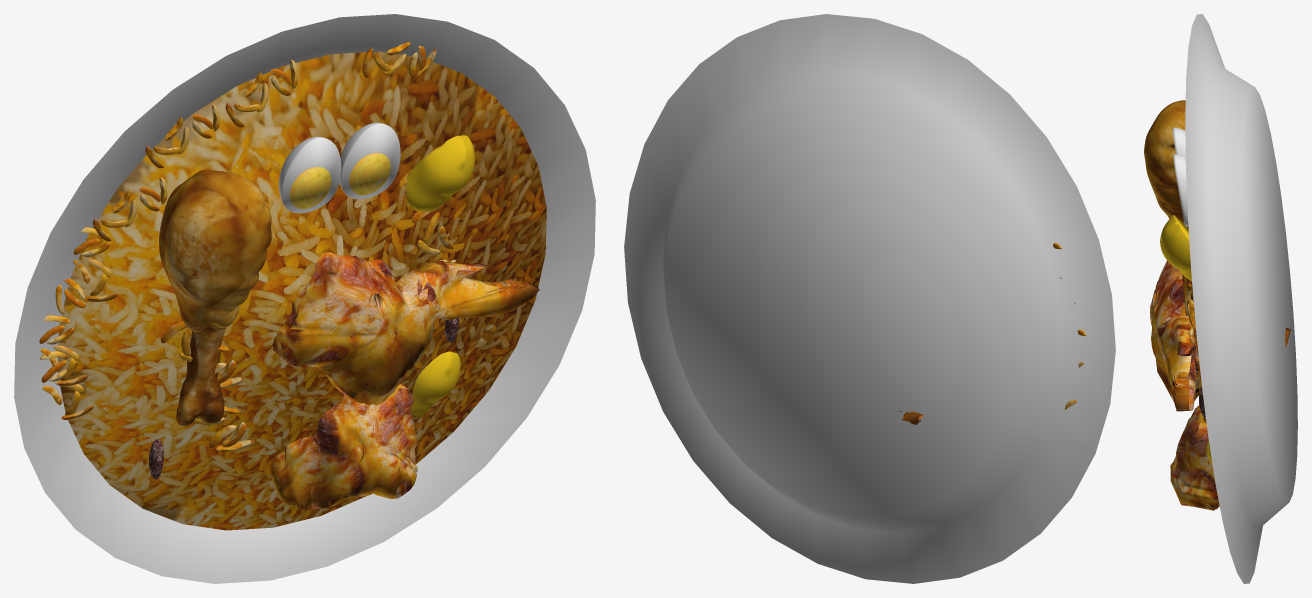
File: Regchbiryani-v4.glb
3 views of the same model, side by side, from view 1: azimuth 30°, elevation 25°; view 2: azimuth 150°, elevation 25°; view 3: azimuth 270°, elevation 25° (orthographic). The views are drawn at different scales.
Parts seen in each view (by area): view 1: Cone, Circle.002, Vert, 15513_Fried_Chicken_Drumstick_v1.001, Vert.003, Sphere, Sphere.003, Sphere.001, Sphere.004, Plane.011, Plane.012, Plane.005 (+7 smaller); view 2: Circle.002; view 3: Circle.002, Vert, Vert.003, 15513_Fried_Chicken_Drumstick_v1.001, Sphere.001, Sphere.003, Plane.029, Cone, Sphere.
Part boxes in pixels (left/top/right/bottom): Cone: left=57, top=51, right=546, bottom=530; Circle.002: left=14, top=14, right=595, bottom=583; Vert: left=272, top=252, right=539, bottom=405; 15513_Fried_Chicken_Drumstick_v1.001: left=159, top=169, right=271, bottom=425; Vert.003: left=271, top=384, right=417, bottom=509; Sphere: left=278, top=136, right=341, bottom=213; Sphere.003: left=339, top=122, right=400, bottom=199; Sphere.001: left=406, top=135, right=474, bottom=211; Sphere.004: left=411, top=351, right=460, bottom=415; Plane.011: left=225, top=59, right=297, bottom=127; Plane.012: left=362, top=42, right=436, bottom=78; Plane.005: left=39, top=315, right=87, bottom=386; Circle.002: left=624, top=14, right=1115, bottom=583; Circle.002: left=1185, top=14, right=1297, bottom=583; Vert: left=1150, top=260, right=1201, bottom=411; Vert.003: left=1170, top=327, right=1290, bottom=510; 15513_Fried_Chicken_Drumstick_v1.001: left=1144, top=100, right=1185, bottom=223; Sphere.001: left=1160, top=215, right=1191, bottom=280; Sphere.003: left=1173, top=154, right=1188, bottom=226; Plane.029: left=1185, top=279, right=1198, bottom=362; Cone: left=1182, top=226, right=1201, bottom=386; Sphere: left=1172, top=127, right=1185, bottom=156.
Bounding box in the file's own units: 8.73 × 8.68 × 2.34.
26 materials, 21 textured.
